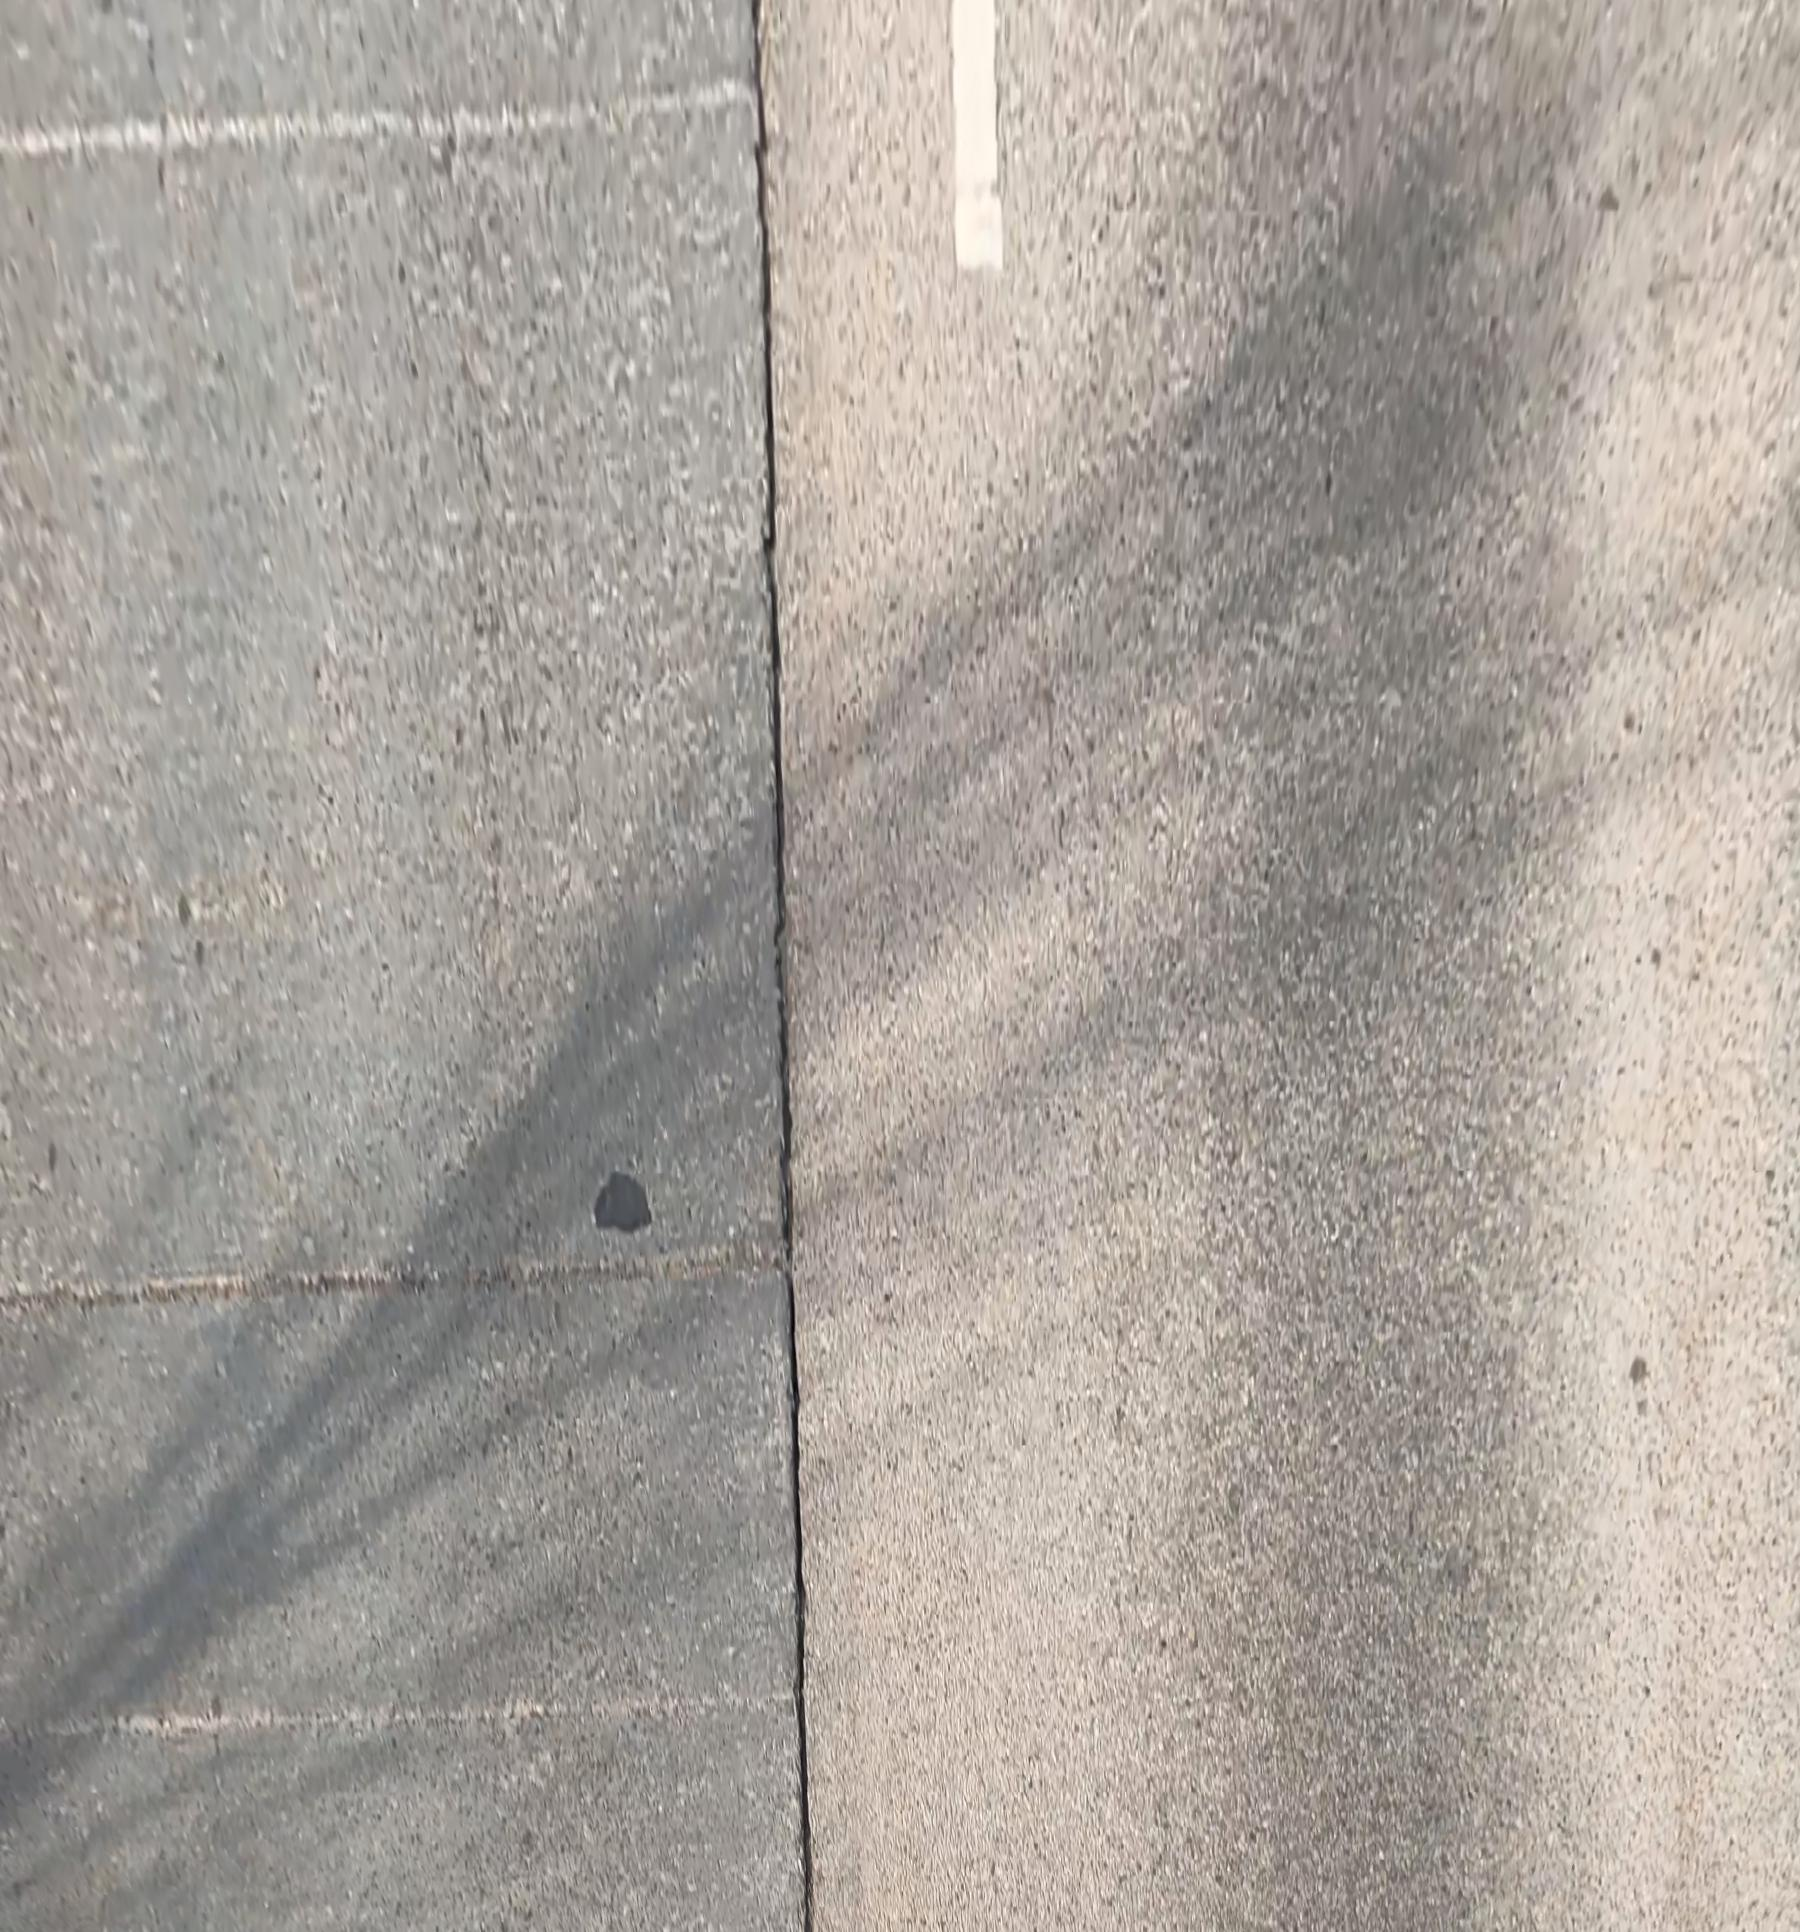pothole_patch_good: (594, 1172, 651, 1233)
